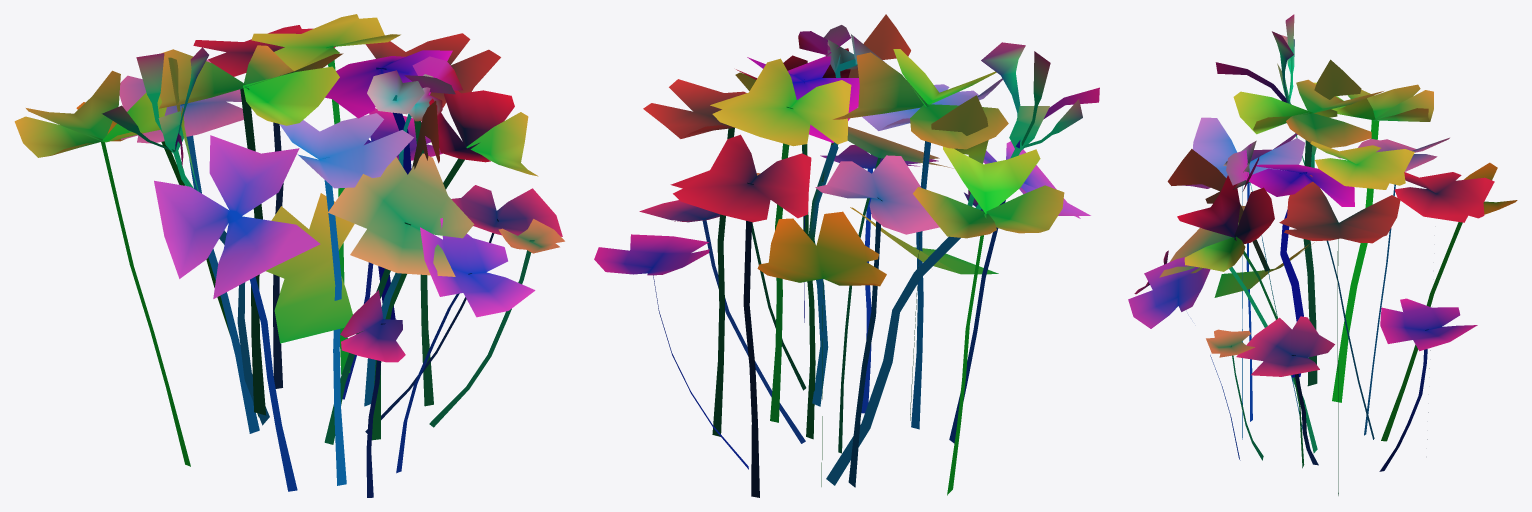
The model's file is Purple_Shamrock_rjrrH_Mid_rjrrH_VarC_LOD0.fbx.
The picture shows the model from 3 angles, left to right: view 1: azimuth 30°, elevation 25°; view 2: azimuth 150°, elevation 25°; view 3: azimuth 270°, elevation 25°; orthographic projection. The views are drawn at different scales.
Visible parts, largest first — view 1: _ada8_VarC_LOD1; view 2: _ada8_VarC_LOD1; view 3: _ada8_VarC_LOD1.
Boxes of the visible parts, <box> form: _ada8_VarC_LOD1: <box>14,14,564,497</box>; _ada8_VarC_LOD1: <box>594,14,1099,497</box>; _ada8_VarC_LOD1: <box>1128,14,1517,495</box>.
Size of the model in its own units: 39.51 by 36.73 by 35.97.
